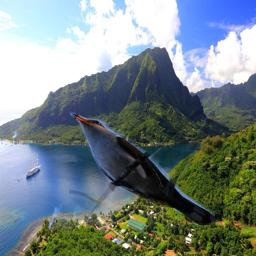Cuckoo: (69, 111, 215, 225)
